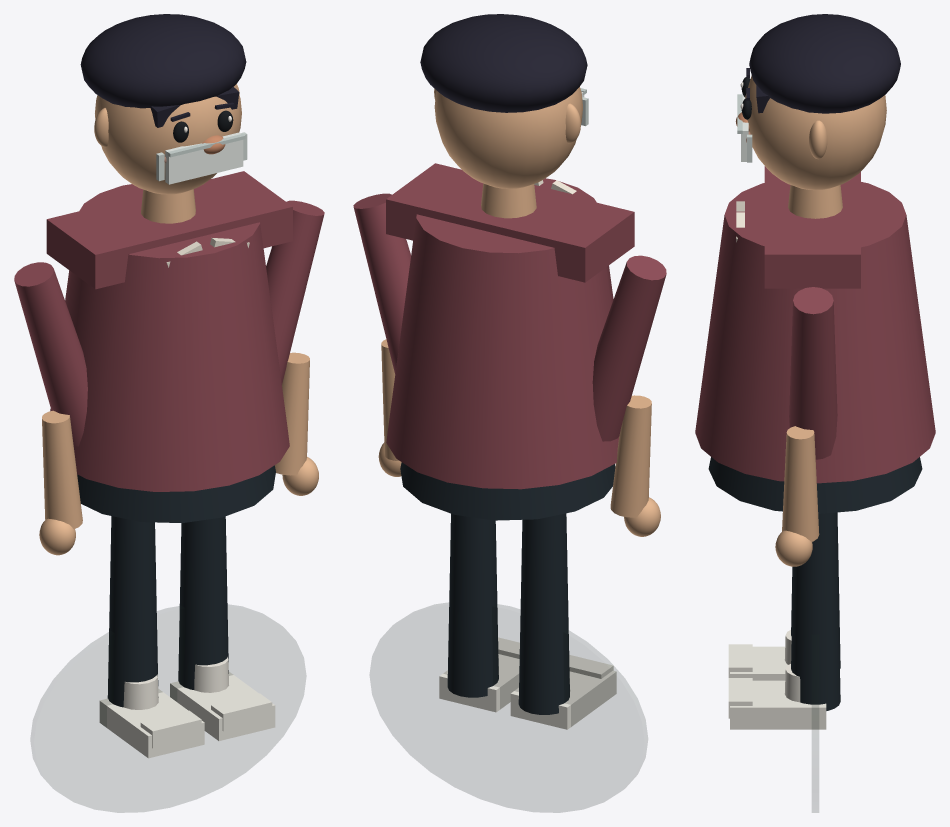
Rendered from customer_06.glb.
The picture shows the model from 3 angles, left to right: view 1: azimuth 30°, elevation 25°; view 2: azimuth 150°, elevation 25°; view 3: azimuth 270°, elevation 25°; orthographic projection. The views are drawn at different scales.
Visible parts, largest first — view 1: torso, contact_shadow, shoulder_line, hair_cap, leg_-0.075, leg_0.075, upper_arm_-0.235, head, hip, upper_arm_0.235, forearm_-0.235, shoe_-0.075 (+10 smaller); view 2: torso, contact_shadow, hair_cap, shoulder_line, leg_-0.075, head, leg_0.075, upper_arm_-0.235, hip, upper_arm_0.235, forearm_-0.235, shoe_-0.075 (+5 smaller); view 3: torso, hair_cap, head, shoulder_line, leg_0.075, upper_arm_0.235, hip, forearm_0.235, shoe_0.075, neck, shoe_-0.075, contact_shadow (+5 smaller).
Part boxes in pixels (<box>): torso: <box>50,184,289,491</box>; contact_shadow: <box>31,605,305,812</box>; shoulder_line: <box>46,171,292,289</box>; hair_cap: <box>80,14,246,108</box>; leg_-0.075: <box>107,516,158,707</box>; leg_0.075: <box>178,516,228,689</box>; upper_arm_-0.235: <box>14,262,87,446</box>; head: <box>95,84,241,194</box>; hip: <box>77,465,275,523</box>; upper_arm_0.235: <box>266,200,324,384</box>; forearm_-0.235: <box>42,410,82,529</box>; shoe_-0.075: <box>99,689,204,758</box>; torso: <box>386,178,619,489</box>; contact_shadow: <box>370,603,647,812</box>; hair_cap: <box>420,14,587,112</box>; shoulder_line: <box>386,163,634,282</box>; leg_-0.075: <box>518,513,569,714</box>; head: <box>434,87,582,188</box>; leg_0.075: <box>447,513,498,697</box>; upper_arm_-0.235: <box>592,255,666,441</box>; hip: <box>400,462,615,520</box>; upper_arm_0.235: <box>353,193,410,373</box>; forearm_-0.235: <box>610,395,651,517</box>; shoe_-0.075: <box>510,670,616,729</box>; torso: <box>695,182,935,483</box>; hair_cap: <box>749,14,900,113</box>; head: <box>745,75,886,190</box>; shoulder_line: <box>764,166,860,288</box>; leg_0.075: <box>791,512,840,710</box>; upper_arm_0.235: <box>789,287,837,459</box>; hip: <box>708,457,922,513</box>; forearm_0.235: <box>782,426,819,541</box>; shoe_0.075: <box>730,680,826,729</box>; neck: <box>788,185,842,218</box>; shoe_-0.075: <box>730,646,787,680</box>; contact_shadow: <box>812,635,818,812</box>.
Bounding box in the file's own units: 0.662 × 1.61 × 0.459.
